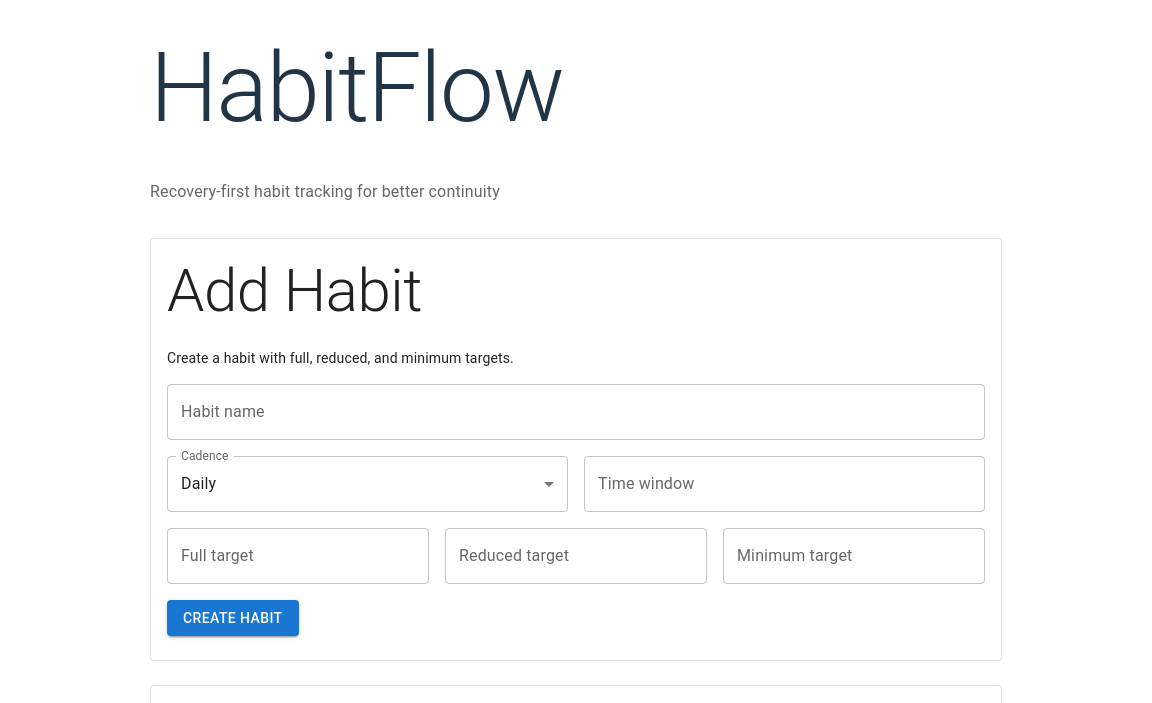
Scenario: Story 1.1 tiered habit creation › shows an error when tier values are not distinct
The width and height of the screenshot is (1152, 703).
Type "Walk" into the field labelled "Habit name" at (576, 412), box left=167, top=384, right=985, bottom=440
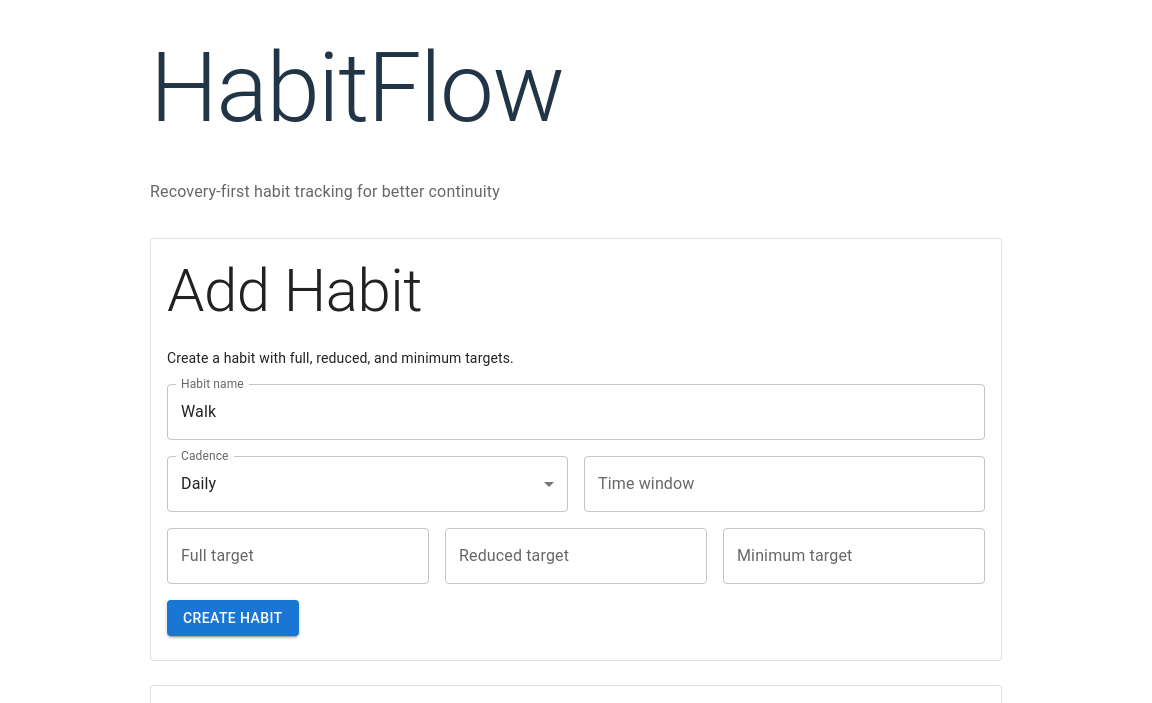
Type "Evening" into the field labelled "Time window" at (784, 484), box left=584, top=456, right=985, bottom=512
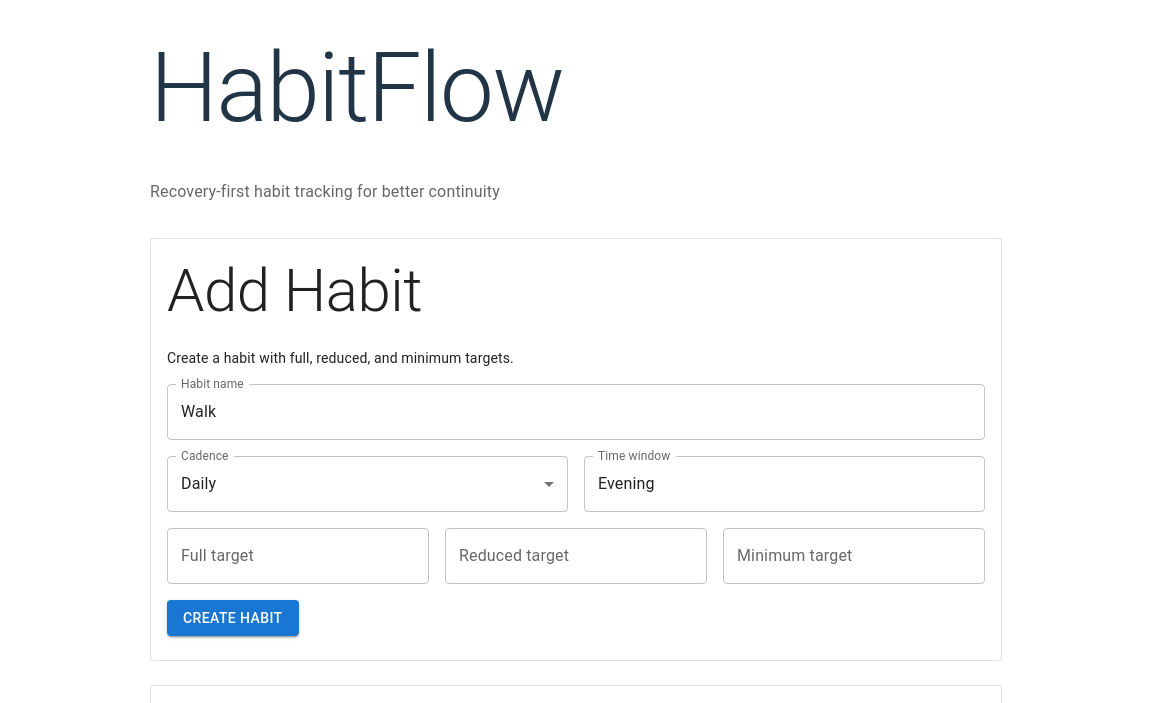
Type "30 minutes" into the field labelled "Full target" at (298, 556), box left=167, top=528, right=429, bottom=584
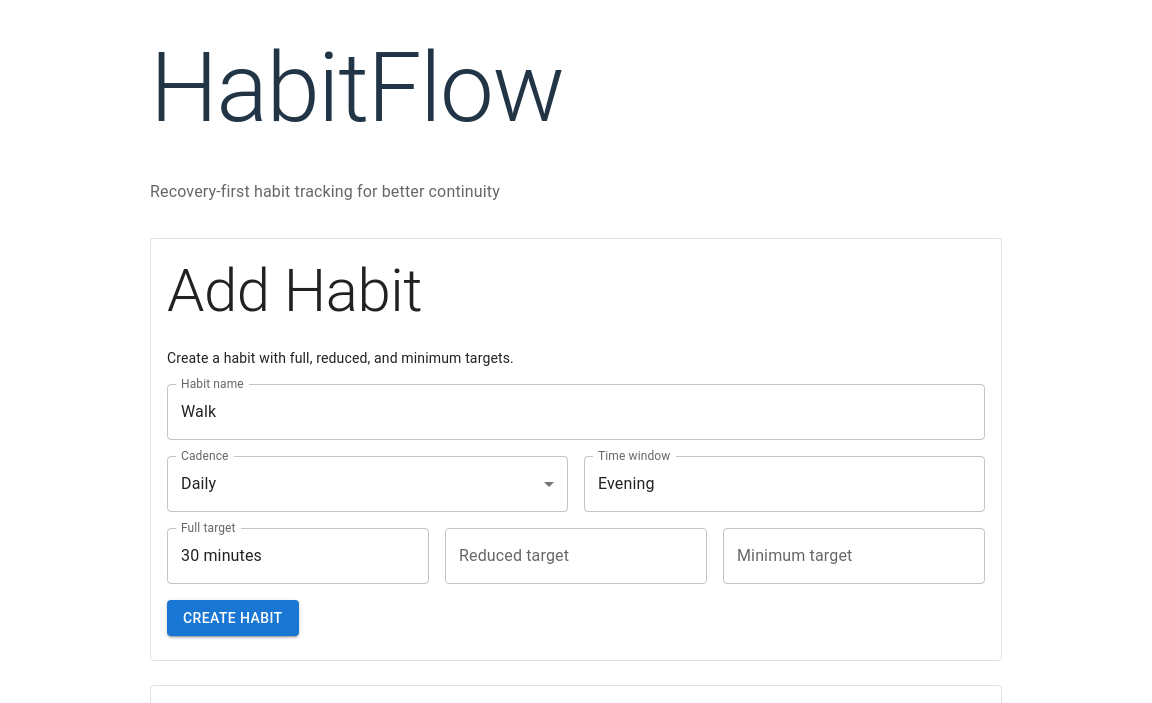
Type "15 minutes" into the field labelled "Reduced target" at (576, 556), box left=445, top=528, right=707, bottom=584
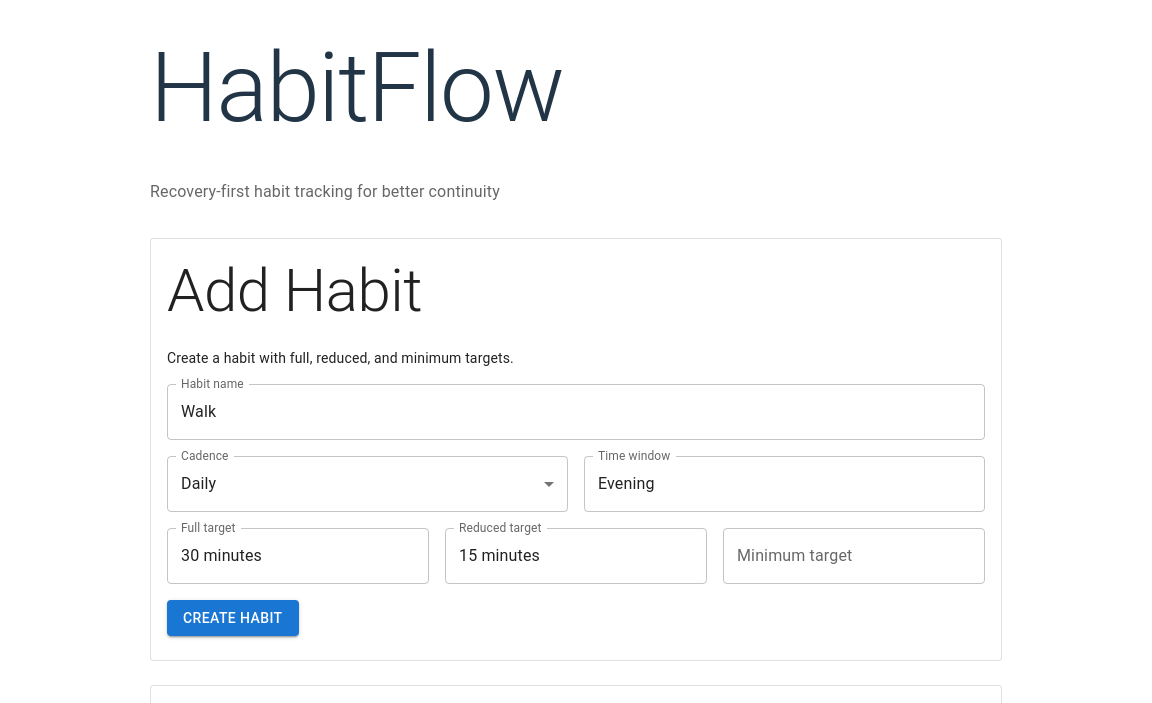
Type "15 minutes" into the field labelled "Minimum target" at (854, 556), box left=723, top=528, right=985, bottom=584
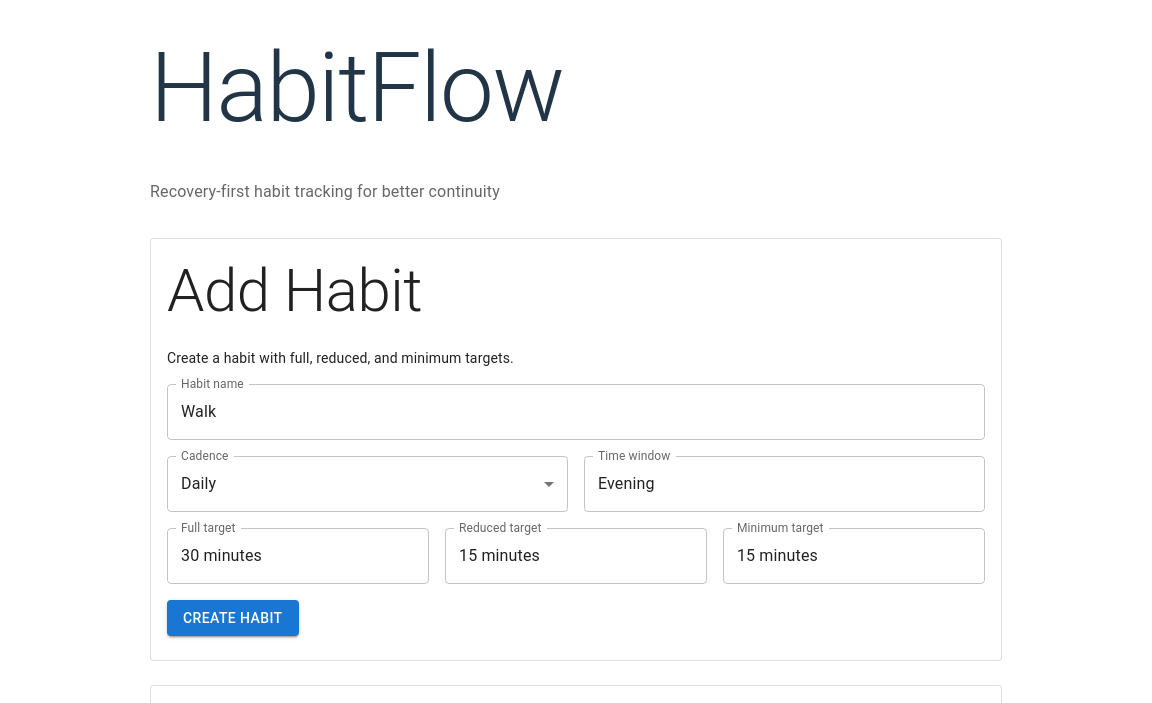
Click the button "Create habit" at (233, 618), box left=167, top=600, right=298, bottom=636
(page scrolled)
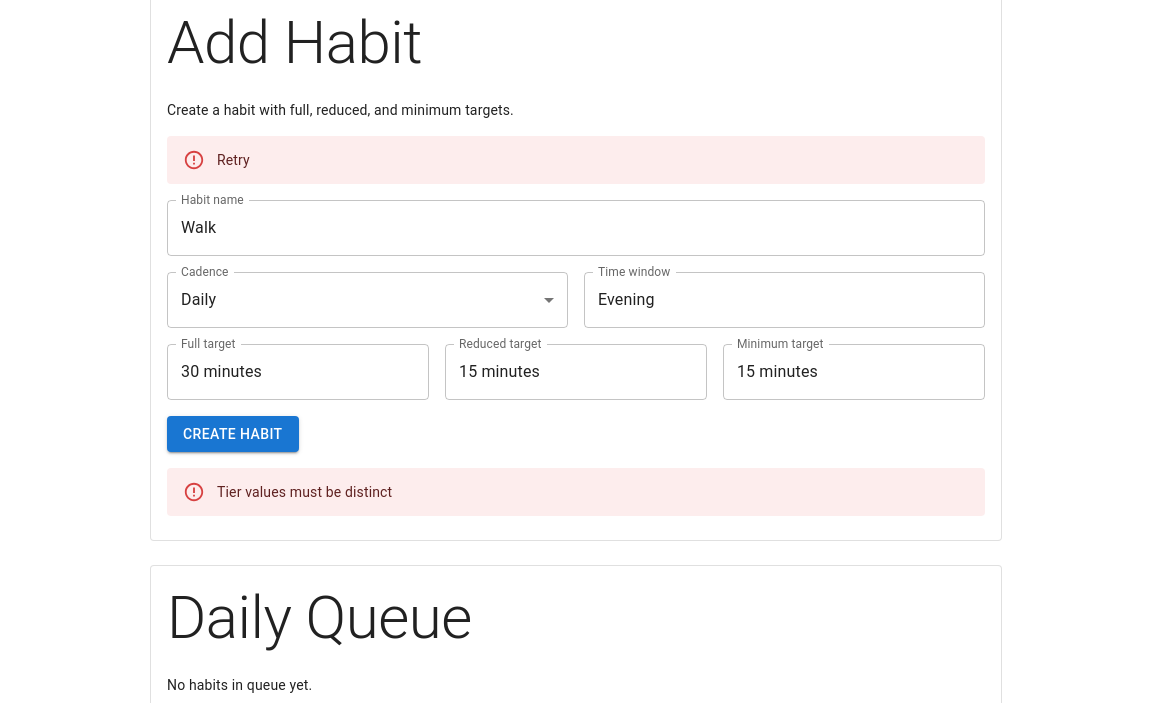
Check: the message "Tier values must be distinct" is shown, box left=167, top=468, right=985, bottom=516
